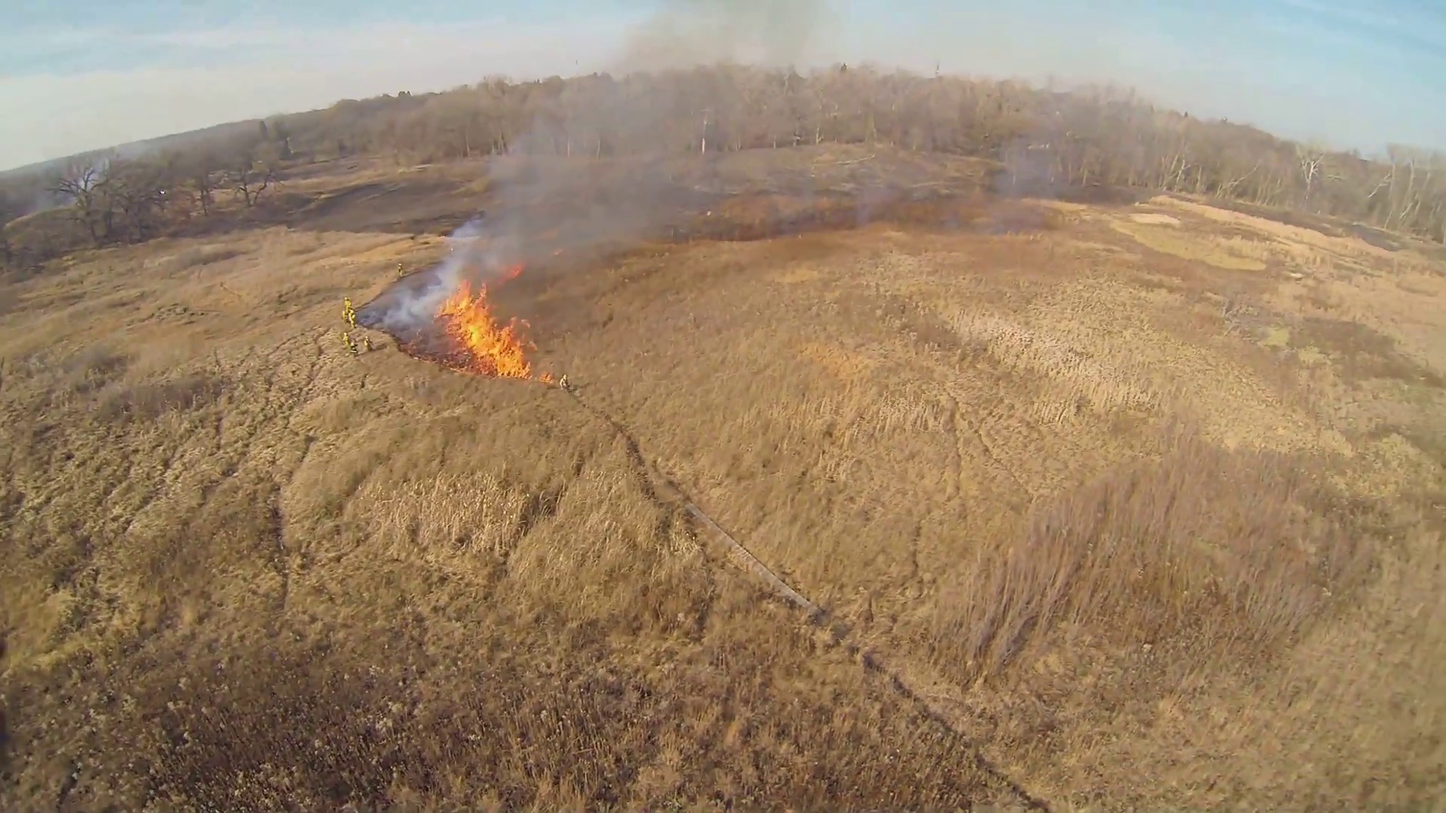forest_fire: (438, 282, 532, 376)
